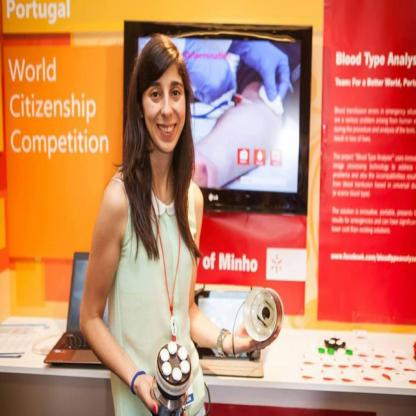board: (42, 250, 101, 367), (191, 287, 264, 376)
